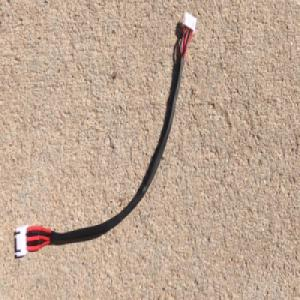Wire: (15, 10, 196, 263)
